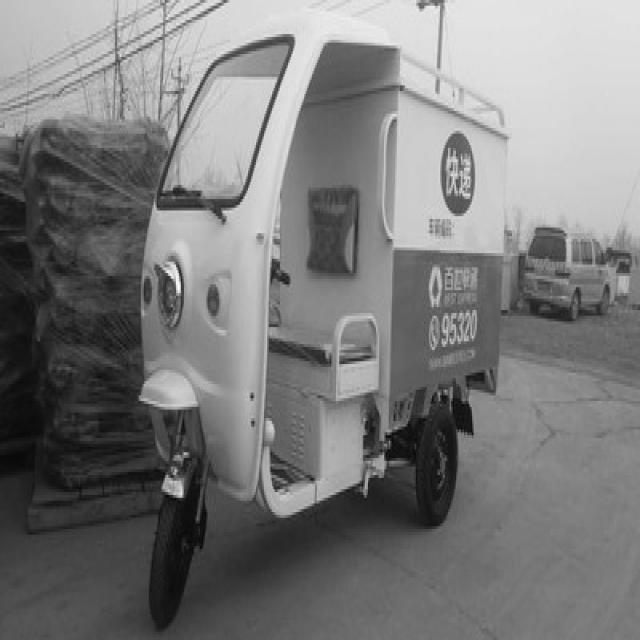car: (523, 222, 610, 318)
tricycle: (137, 23, 508, 631)
